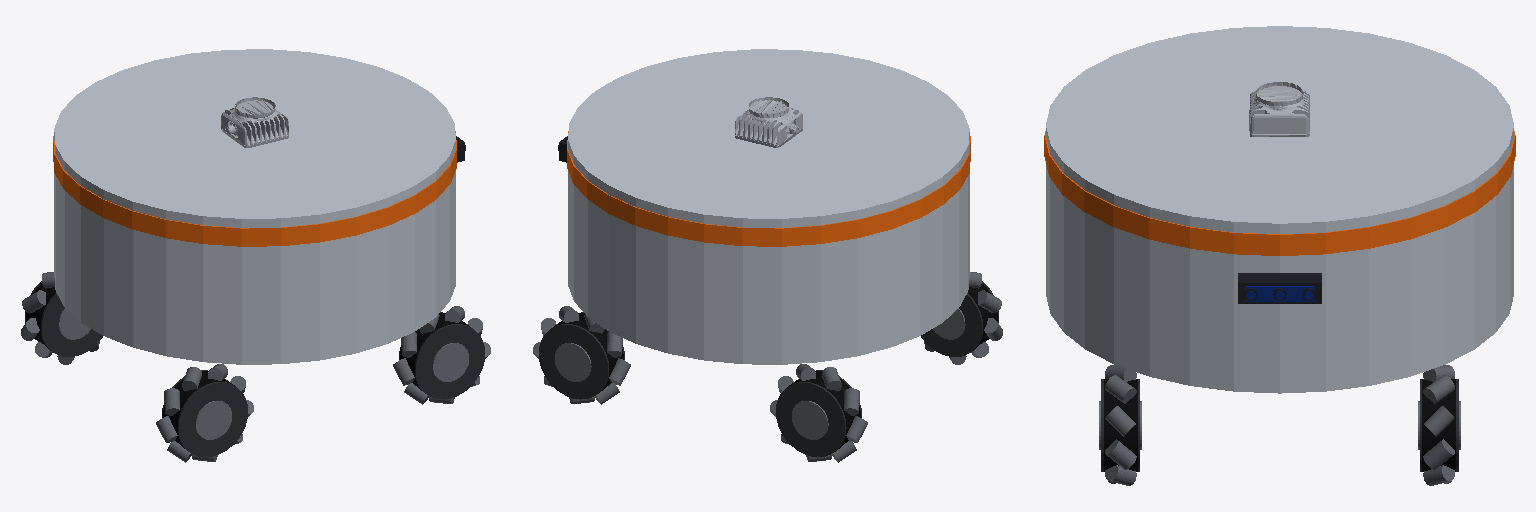
robot.urdf — zhirong_omni_robot:
<?xml version="1.0"?>
<!--
  Zhirong Cup omnidirectional robot - minimalist primitive-geometry URDF
  ======================================================================
  Coordinate convention:
    +X : forward (depth camera side)
    +Y : left
    +Z : up
    base_footprint : ground projection of the robot centre
    base_link      : geometric centre of the cylindrical body

  Key dimensions (metres):
    body cylinder          radius 0.250, height 0.200
    body bottom / top      z = 0.140 / 0.340
    wheel                  radius 0.065, width 0.040
    wheel centres          x = +-0.170, y = +-0.170, z = 0.065
    Livox Mid-360          65 x 65 x 60 mm, on body top centre
    depth camera (D435i)   90 x 25 x 25 mm, front face of body
  ======================================================================
-->
<robot name="zhirong_omni_robot">

  <!-- ======================= materials ======================= -->
  <material name="body_gray">
    <color rgba="0.76 0.79 0.83 1.0"/>
  </material>
  <material name="accent_orange">
    <color rgba="0.95 0.45 0.10 1.0"/>
  </material>
  <material name="wheel_black">
    <color rgba="0.09 0.09 0.10 1.0"/>
  </material>
  <material name="hub_gray">
    <color rgba="0.45 0.47 0.50 1.0"/>
  </material>
  <material name="wheel_plate">
    <color rgba="0.22 0.23 0.25 1.0"/>
  </material>
  <material name="roller_gray">
    <color rgba="0.40 0.41 0.44 1.0"/>
  </material>
  <material name="lidar_black">
    <color rgba="0.05 0.05 0.06 1.0"/>
  </material>
  <material name="lidar_blue">
    <color rgba="0.04 0.28 0.60 1.0"/>
  </material>
  <material name="lidar_silver">
    <color rgba="0.68 0.70 0.73 1.0"/>
  </material>
  <material name="camera_dark">
    <color rgba="0.15 0.16 0.18 1.0"/>
  </material>
  <material name="lens_blue">
    <color rgba="0.08 0.20 0.50 1.0"/>
  </material>

  <!-- ======================= chassis ======================= -->
  <link name="base_footprint"/>

  <link name="base_link">
    <inertial>
      <origin xyz="0 0 0" rpy="0 0 0"/>
      <mass value="8.0"/>
      <!-- solid cylinder: Ixx=Iyy=m(3r^2+h^2)/12, Izz=m r^2/2 -->
      <inertia ixx="0.1516667" ixy="0.0" ixz="0.0"
               iyy="0.1516667" iyz="0.0" izz="0.25"/>
    </inertial>

    <visual>
      <origin xyz="0 0 0" rpy="0 0 0"/>
      <geometry>
        <cylinder radius="0.25" length="0.20"/>
      </geometry>
      <material name="body_gray"/>
    </visual>

    <!-- thin orange accent band, purely cosmetic -->
    <visual>
      <origin xyz="0 0 0.075" rpy="0 0 0"/>
      <geometry>
        <cylinder radius="0.2515" length="0.025"/>
      </geometry>
      <material name="accent_orange"/>
    </visual>

    <collision>
      <origin xyz="0 0 0" rpy="0 0 0"/>
      <geometry>
        <cylinder radius="0.25" length="0.20"/>
      </geometry>
    </collision>
  </link>

  <joint name="base_footprint_joint" type="fixed">
    <parent link="base_footprint"/>
    <child link="base_link"/>
    <origin xyz="0 0 0.24" rpy="0 0 0"/>
  </joint>

  <!-- ======================= wheels =======================
       Four mecanum-style wheels, X layout (45 deg positions).
       Wheel axle is parallel to Y, so every wheel uses axis "0 1 0".
       For mecanum kinematics the four wheel speeds are the usual
       w_fl = ( vx - vy - (lx+ly)wz ) / r  ... etc.
  ======================================================== -->

  <!-- front left -->
  <link name="wheel_front_left_link">
    <inertial>
      <origin xyz="0 0 0" rpy="0 0 0"/>
      <mass value="0.4"/>
      <!-- cylinder axis along Y -->
      <inertia ixx="0.0004758" ixy="0.0" ixz="0.0"
               iyy="0.0008450" iyz="0.0" izz="0.0004758"/>
    </inertial>
    <visual>
      <origin xyz="0 0 0" rpy="1.57079633 0 0"/>
      <geometry>
        <cylinder radius="0.05" length="0.036"/>
      </geometry>
      <material name="wheel_black"/>
    </visual>
    <visual>
      <origin xyz="0 0.0195 0" rpy="1.57079633 0 0"/>
      <geometry>
        <cylinder radius="0.05" length="0.003"/>
      </geometry>
      <material name="wheel_plate"/>
    </visual>
    <visual>
      <origin xyz="0 -0.0195 0" rpy="1.57079633 0 0"/>
      <geometry>
        <cylinder radius="0.05" length="0.003"/>
      </geometry>
      <material name="wheel_plate"/>
    </visual>
    <visual>
      <origin xyz="0 0 0" rpy="1.57079633 0 0"/>
      <geometry>
        <cylinder radius="0.026" length="0.046"/>
      </geometry>
      <material name="hub_gray"/>
    </visual>
    <visual>
      <origin xyz="0 0 -0.054" rpy="-1.57079633 0 -0.78539816"/>
      <geometry>
        <cylinder radius="0.01" length="0.028"/>
      </geometry>
      <material name="roller_gray"/>
    </visual>
    <visual>
      <origin xyz="0.03471053 0 -0.0413664" rpy="-1.09896365 0 -0.65369072"/>
      <geometry>
        <cylinder radius="0.01" length="0.028"/>
      </geometry>
      <material name="roller_gray"/>
    </visual>
    <visual>
      <origin xyz="0.05317962 0 -0.009377" rpy="-0.80047729 0 -0.17193371"/>
      <geometry>
        <cylinder radius="0.01" length="0.028"/>
      </geometry>
      <material name="roller_gray"/>
    </visual>
    <visual>
      <origin xyz="0.04676537 0 0.027" rpy="-0.91173829 0 0.46364761"/>
      <geometry>
        <cylinder radius="0.01" length="0.028"/>
      </geometry>
      <material name="roller_gray"/>
    </visual>
    <visual>
      <origin xyz="0.01846909 0 0.0507434" rpy="-1.32652972 0 0.75431697"/>
      <geometry>
        <cylinder radius="0.01" length="0.028"/>
      </geometry>
      <material name="roller_gray"/>
    </visual>
    <visual>
      <origin xyz="-0.01846909 0 0.0507434" rpy="-1.81506293 0 0.75431697"/>
      <geometry>
        <cylinder radius="0.01" length="0.028"/>
      </geometry>
      <material name="roller_gray"/>
    </visual>
    <visual>
      <origin xyz="-0.04676537 0 0.027" rpy="-2.22985436 0 0.46364761"/>
      <geometry>
        <cylinder radius="0.01" length="0.028"/>
      </geometry>
      <material name="roller_gray"/>
    </visual>
    <visual>
      <origin xyz="-0.05317962 0 -0.009377" rpy="-2.34111536 0 -0.17193371"/>
      <geometry>
        <cylinder radius="0.01" length="0.028"/>
      </geometry>
      <material name="roller_gray"/>
    </visual>
    <visual>
      <origin xyz="-0.03471053 0 -0.0413664" rpy="-2.042629 0 -0.65369072"/>
      <geometry>
        <cylinder radius="0.01" length="0.028"/>
      </geometry>
      <material name="roller_gray"/>
    </visual>
    <collision>
      <origin xyz="0 0 0" rpy="1.57079632679 0 0"/>
      <geometry>
        <cylinder radius="0.065" length="0.040"/>
      </geometry>
    </collision>
  </link>
  <joint name="wheel_front_left_joint" type="continuous">
    <parent link="base_link"/>
    <child link="wheel_front_left_link"/>
    <origin xyz="0.17 0.17 -0.175" rpy="0 0 0"/>
    <axis xyz="0 1 0"/>
    <limit effort="20.0" velocity="30.0"/>
    <dynamics damping="0.01" friction="0.01"/>
  </joint>

  <!-- front right -->
  <link name="wheel_front_right_link">
    <inertial>
      <origin xyz="0 0 0" rpy="0 0 0"/>
      <mass value="0.4"/>
      <!-- cylinder axis along Y -->
      <inertia ixx="0.0004758" ixy="0.0" ixz="0.0"
               iyy="0.0008450" iyz="0.0" izz="0.0004758"/>
    </inertial>
    <visual>
      <origin xyz="0 0 0" rpy="1.57079633 0 0"/>
      <geometry>
        <cylinder radius="0.05" length="0.036"/>
      </geometry>
      <material name="wheel_black"/>
    </visual>
    <visual>
      <origin xyz="0 0.0195 0" rpy="1.57079633 0 0"/>
      <geometry>
        <cylinder radius="0.05" length="0.003"/>
      </geometry>
      <material name="wheel_plate"/>
    </visual>
    <visual>
      <origin xyz="0 -0.0195 0" rpy="1.57079633 0 0"/>
      <geometry>
        <cylinder radius="0.05" length="0.003"/>
      </geometry>
      <material name="wheel_plate"/>
    </visual>
    <visual>
      <origin xyz="0 0 0" rpy="1.57079633 0 0"/>
      <geometry>
        <cylinder radius="0.026" length="0.046"/>
      </geometry>
      <material name="hub_gray"/>
    </visual>
    <visual>
      <origin xyz="0 0 -0.054" rpy="-1.57079633 0 -2.35619449"/>
      <geometry>
        <cylinder radius="0.01" length="0.028"/>
      </geometry>
      <material name="roller_gray"/>
    </visual>
    <visual>
      <origin xyz="0.03471053 0 -0.0413664" rpy="-1.09896365 0 -2.48790193"/>
      <geometry>
        <cylinder radius="0.01" length="0.028"/>
      </geometry>
      <material name="roller_gray"/>
    </visual>
    <visual>
      <origin xyz="0.05317962 0 -0.009377" rpy="-0.80047729 0 -2.96965894"/>
      <geometry>
        <cylinder radius="0.01" length="0.028"/>
      </geometry>
      <material name="roller_gray"/>
    </visual>
    <visual>
      <origin xyz="0.04676537 0 0.027" rpy="-0.91173829 0 2.67794504"/>
      <geometry>
        <cylinder radius="0.01" length="0.028"/>
      </geometry>
      <material name="roller_gray"/>
    </visual>
    <visual>
      <origin xyz="0.01846909 0 0.0507434" rpy="-1.32652972 0 2.38727568"/>
      <geometry>
        <cylinder radius="0.01" length="0.028"/>
      </geometry>
      <material name="roller_gray"/>
    </visual>
    <visual>
      <origin xyz="-0.01846909 0 0.0507434" rpy="-1.81506293 0 2.38727568"/>
      <geometry>
        <cylinder radius="0.01" length="0.028"/>
      </geometry>
      <material name="roller_gray"/>
    </visual>
    <visual>
      <origin xyz="-0.04676537 0 0.027" rpy="-2.22985436 0 2.67794504"/>
      <geometry>
        <cylinder radius="0.01" length="0.028"/>
      </geometry>
      <material name="roller_gray"/>
    </visual>
    <visual>
      <origin xyz="-0.05317962 0 -0.009377" rpy="-2.34111536 0 -2.96965894"/>
      <geometry>
        <cylinder radius="0.01" length="0.028"/>
      </geometry>
      <material name="roller_gray"/>
    </visual>
    <visual>
      <origin xyz="-0.03471053 0 -0.0413664" rpy="-2.042629 0 -2.48790193"/>
      <geometry>
        <cylinder radius="0.01" length="0.028"/>
      </geometry>
      <material name="roller_gray"/>
    </visual>
    <collision>
      <origin xyz="0 0 0" rpy="1.57079632679 0 0"/>
      <geometry>
        <cylinder radius="0.065" length="0.040"/>
      </geometry>
    </collision>
  </link>
  <joint name="wheel_front_right_joint" type="continuous">
    <parent link="base_link"/>
    <child link="wheel_front_right_link"/>
    <origin xyz="0.17 -0.17 -0.175" rpy="0 0 0"/>
    <axis xyz="0 1 0"/>
    <limit effort="20.0" velocity="30.0"/>
    <dynamics damping="0.01" friction="0.01"/>
  </joint>

  <!-- rear left -->
  <link name="wheel_rear_left_link">
    <inertial>
      <origin xyz="0 0 0" rpy="0 0 0"/>
      <mass value="0.4"/>
      <!-- cylinder axis along Y -->
      <inertia ixx="0.0004758" ixy="0.0" ixz="0.0"
               iyy="0.0008450" iyz="0.0" izz="0.0004758"/>
    </inertial>
    <visual>
      <origin xyz="0 0 0" rpy="1.57079633 0 0"/>
      <geometry>
        <cylinder radius="0.05" length="0.036"/>
      </geometry>
      <material name="wheel_black"/>
    </visual>
    <visual>
      <origin xyz="0 0.0195 0" rpy="1.57079633 0 0"/>
      <geometry>
        <cylinder radius="0.05" length="0.003"/>
      </geometry>
      <material name="wheel_plate"/>
    </visual>
    <visual>
      <origin xyz="0 -0.0195 0" rpy="1.57079633 0 0"/>
      <geometry>
        <cylinder radius="0.05" length="0.003"/>
      </geometry>
      <material name="wheel_plate"/>
    </visual>
    <visual>
      <origin xyz="0 0 0" rpy="1.57079633 0 0"/>
      <geometry>
        <cylinder radius="0.026" length="0.046"/>
      </geometry>
      <material name="hub_gray"/>
    </visual>
    <visual>
      <origin xyz="0 0 -0.054" rpy="-1.57079633 0 -0.78539816"/>
      <geometry>
        <cylinder radius="0.01" length="0.028"/>
      </geometry>
      <material name="roller_gray"/>
    </visual>
    <visual>
      <origin xyz="0.03471053 0 -0.0413664" rpy="-1.09896365 0 -0.65369072"/>
      <geometry>
        <cylinder radius="0.01" length="0.028"/>
      </geometry>
      <material name="roller_gray"/>
    </visual>
    <visual>
      <origin xyz="0.05317962 0 -0.009377" rpy="-0.80047729 0 -0.17193371"/>
      <geometry>
        <cylinder radius="0.01" length="0.028"/>
      </geometry>
      <material name="roller_gray"/>
    </visual>
    <visual>
      <origin xyz="0.04676537 0 0.027" rpy="-0.91173829 0 0.46364761"/>
      <geometry>
        <cylinder radius="0.01" length="0.028"/>
      </geometry>
      <material name="roller_gray"/>
    </visual>
    <visual>
      <origin xyz="0.01846909 0 0.0507434" rpy="-1.32652972 0 0.75431697"/>
      <geometry>
        <cylinder radius="0.01" length="0.028"/>
      </geometry>
      <material name="roller_gray"/>
    </visual>
    <visual>
      <origin xyz="-0.01846909 0 0.0507434" rpy="-1.81506293 0 0.75431697"/>
      <geometry>
        <cylinder radius="0.01" length="0.028"/>
      </geometry>
      <material name="roller_gray"/>
    </visual>
    <visual>
      <origin xyz="-0.04676537 0 0.027" rpy="-2.22985436 0 0.46364761"/>
      <geometry>
        <cylinder radius="0.01" length="0.028"/>
      </geometry>
      <material name="roller_gray"/>
    </visual>
    <visual>
      <origin xyz="-0.05317962 0 -0.009377" rpy="-2.34111536 0 -0.17193371"/>
      <geometry>
        <cylinder radius="0.01" length="0.028"/>
      </geometry>
      <material name="roller_gray"/>
    </visual>
    <visual>
      <origin xyz="-0.03471053 0 -0.0413664" rpy="-2.042629 0 -0.65369072"/>
      <geometry>
        <cylinder radius="0.01" length="0.028"/>
      </geometry>
      <material name="roller_gray"/>
    </visual>
    <collision>
      <origin xyz="0 0 0" rpy="1.57079632679 0 0"/>
      <geometry>
        <cylinder radius="0.065" length="0.040"/>
      </geometry>
    </collision>
  </link>
  <joint name="wheel_rear_left_joint" type="continuous">
    <parent link="base_link"/>
    <child link="wheel_rear_left_link"/>
    <origin xyz="-0.17 0.17 -0.175" rpy="0 0 0"/>
    <axis xyz="0 1 0"/>
    <limit effort="20.0" velocity="30.0"/>
    <dynamics damping="0.01" friction="0.01"/>
  </joint>

  <!-- rear right -->
  <link name="wheel_rear_right_link">
    <inertial>
      <origin xyz="0 0 0" rpy="0 0 0"/>
      <mass value="0.4"/>
      <!-- cylinder axis along Y -->
      <inertia ixx="0.0004758" ixy="0.0" ixz="0.0"
               iyy="0.0008450" iyz="0.0" izz="0.0004758"/>
    </inertial>
    <visual>
      <origin xyz="0 0 0" rpy="1.57079633 0 0"/>
      <geometry>
        <cylinder radius="0.05" length="0.036"/>
      </geometry>
      <material name="wheel_black"/>
    </visual>
    <visual>
      <origin xyz="0 0.0195 0" rpy="1.57079633 0 0"/>
      <geometry>
        <cylinder radius="0.05" length="0.003"/>
      </geometry>
      <material name="wheel_plate"/>
    </visual>
    <visual>
      <origin xyz="0 -0.0195 0" rpy="1.57079633 0 0"/>
      <geometry>
        <cylinder radius="0.05" length="0.003"/>
      </geometry>
      <material name="wheel_plate"/>
    </visual>
    <visual>
      <origin xyz="0 0 0" rpy="1.57079633 0 0"/>
      <geometry>
        <cylinder radius="0.026" length="0.046"/>
      </geometry>
      <material name="hub_gray"/>
    </visual>
    <visual>
      <origin xyz="0 0 -0.054" rpy="-1.57079633 0 -2.35619449"/>
      <geometry>
        <cylinder radius="0.01" length="0.028"/>
      </geometry>
      <material name="roller_gray"/>
    </visual>
    <visual>
      <origin xyz="0.03471053 0 -0.0413664" rpy="-1.09896365 0 -2.48790193"/>
      <geometry>
        <cylinder radius="0.01" length="0.028"/>
      </geometry>
      <material name="roller_gray"/>
    </visual>
    <visual>
      <origin xyz="0.05317962 0 -0.009377" rpy="-0.80047729 0 -2.96965894"/>
      <geometry>
        <cylinder radius="0.01" length="0.028"/>
      </geometry>
      <material name="roller_gray"/>
    </visual>
    <visual>
      <origin xyz="0.04676537 0 0.027" rpy="-0.91173829 0 2.67794504"/>
      <geometry>
        <cylinder radius="0.01" length="0.028"/>
      </geometry>
      <material name="roller_gray"/>
    </visual>
    <visual>
      <origin xyz="0.01846909 0 0.0507434" rpy="-1.32652972 0 2.38727568"/>
      <geometry>
        <cylinder radius="0.01" length="0.028"/>
      </geometry>
      <material name="roller_gray"/>
    </visual>
    <visual>
      <origin xyz="-0.01846909 0 0.0507434" rpy="-1.81506293 0 2.38727568"/>
      <geometry>
        <cylinder radius="0.01" length="0.028"/>
      </geometry>
      <material name="roller_gray"/>
    </visual>
    <visual>
      <origin xyz="-0.04676537 0 0.027" rpy="-2.22985436 0 2.67794504"/>
      <geometry>
        <cylinder radius="0.01" length="0.028"/>
      </geometry>
      <material name="roller_gray"/>
    </visual>
    <visual>
      <origin xyz="-0.05317962 0 -0.009377" rpy="-2.34111536 0 -2.96965894"/>
      <geometry>
        <cylinder radius="0.01" length="0.028"/>
      </geometry>
      <material name="roller_gray"/>
    </visual>
    <visual>
      <origin xyz="-0.03471053 0 -0.0413664" rpy="-2.042629 0 -2.48790193"/>
      <geometry>
        <cylinder radius="0.01" length="0.028"/>
      </geometry>
      <material name="roller_gray"/>
    </visual>
    <collision>
      <origin xyz="0 0 0" rpy="1.57079632679 0 0"/>
      <geometry>
        <cylinder radius="0.065" length="0.040"/>
      </geometry>
    </collision>
  </link>
  <joint name="wheel_rear_right_joint" type="continuous">
    <parent link="base_link"/>
    <child link="wheel_rear_right_link"/>
    <origin xyz="-0.17 -0.17 -0.175" rpy="0 0 0"/>
    <axis xyz="0 1 0"/>
    <limit effort="20.0" velocity="30.0"/>
    <dynamics damping="0.01" friction="0.01"/>
  </joint>

  <!-- ======================= Livox Mid-360 =======================
       Link frame: centre of the mounting face (top of the body).
       Device: 65 x 65 x 60 mm, weight 265 g.
       Open-source STL device 60 mm -> top of lidar at z = 0.400.
  =============================================================== -->
  <link name="livox_mid360_link">
    <inertial>
      <origin xyz="0 0 0.030" rpy="0 0 0"/>
      <mass value="0.265"/>
      <!-- box approximation of the 65 x 65 x 60 mm device -->
      <inertia ixx="0.0001727" ixy="0.0" ixz="0.0"
               iyy="0.0001727" iyz="0.0" izz="0.0001866"/>
    </inertial>

    <!-- Open-source Livox Mid-360 STL (MIT). The model is split by material:
         silver heat-sink base, blue dome, black top cap. -->
    <visual>
      <origin xyz="0 0 0" rpy="0 0 0"/>
      <geometry>
        <mesh filename="package://robot_description/meshes/mid360_base.stl"/>
      </geometry>
      <material name="lidar_silver"/>
    </visual>
    <visual>
      <origin xyz="0 0 0" rpy="0 0 0"/>
      <geometry>
        <mesh filename="package://robot_description/meshes/mid360_dome.stl"/>
      </geometry>
      <material name="lidar_blue"/>
    </visual>
    <visual>
      <origin xyz="0 0 0" rpy="0 0 0"/>
      <geometry>
        <mesh filename="package://robot_description/meshes/mid360_top.stl"/>
      </geometry>
      <material name="lidar_black"/>
    </visual>

    <collision>
      <origin xyz="0 0 0.030" rpy="0 0 0"/>
      <geometry>
        <box size="0.065 0.065 0.060"/>
      </geometry>
    </collision>
  </link>
  <joint name="livox_mid360_joint" type="fixed">
    <parent link="base_link"/>
    <child link="livox_mid360_link"/>
    <origin xyz="0 0 0.10" rpy="0 0 0"/>
  </joint>

  <!-- ======================= depth camera =======================
       Intel RealSense D435i style: 90 x 25 x 25 mm.
       Body centre at x = 0.263 (back face 0.2505), z = 0.270.
       camera_link  : x forward, y left, z up (body axes)
       camera_optical_frame : z forward, x right, y down (REP-103)
  =============================================================== -->
  <link name="camera_link">
    <inertial>
      <origin xyz="0 0 0" rpy="0 0 0"/>
      <mass value="0.09"/>
      <!-- box 0.025 x 0.090 x 0.025 -->
      <inertia ixx="0.0000654" ixy="0.0" ixz="0.0"
               iyy="0.0000094" iyz="0.0" izz="0.0000654"/>
    </inertial>

    <visual>
      <origin xyz="0 0 0" rpy="0 0 0"/>
      <geometry>
        <box size="0.025 0.090 0.025"/>
      </geometry>
      <material name="camera_dark"/>
    </visual>

    <!-- dark front glass -->
    <visual>
      <origin xyz="0.0135 0 0" rpy="0 0 0"/>
      <geometry>
        <box size="0.002 0.074 0.018"/>
      </geometry>
      <material name="lens_blue"/>
    </visual>

    <!-- three lenses: left IR / RGB / right IR (dark ring + blue glass) -->
    <visual>
      <origin xyz="0.0160 -0.031 0" rpy="0 1.57079632679 0"/>
      <geometry>
        <cylinder radius="0.0070" length="0.003"/>
      </geometry>
      <material name="camera_dark"/>
    </visual>
    <visual>
      <origin xyz="0.0170 -0.031 0" rpy="0 1.57079632679 0"/>
      <geometry>
        <cylinder radius="0.0050" length="0.003"/>
      </geometry>
      <material name="lens_blue"/>
    </visual>
    <visual>
      <origin xyz="0.0160 0.000 0" rpy="0 1.57079632679 0"/>
      <geometry>
        <cylinder radius="0.0070" length="0.003"/>
      </geometry>
      <material name="camera_dark"/>
    </visual>
    <visual>
      <origin xyz="0.0170 0.000 0" rpy="0 1.57079632679 0"/>
      <geometry>
        <cylinder radius="0.0050" length="0.003"/>
      </geometry>
      <material name="lens_blue"/>
    </visual>
    <visual>
      <origin xyz="0.0160 0.031 0" rpy="0 1.57079632679 0"/>
      <geometry>
        <cylinder radius="0.0070" length="0.003"/>
      </geometry>
      <material name="camera_dark"/>
    </visual>
    <visual>
      <origin xyz="0.0170 0.031 0" rpy="0 1.57079632679 0"/>
      <geometry>
        <cylinder radius="0.0050" length="0.003"/>
      </geometry>
      <material name="lens_blue"/>
    </visual>

    <collision>
      <origin xyz="0 0 0" rpy="0 0 0"/>
      <geometry>
        <box size="0.025 0.090 0.025"/>
      </geometry>
    </collision>
  </link>
  <joint name="camera_joint" type="fixed">
    <parent link="base_link"/>
    <child link="camera_link"/>
    <origin xyz="0.263 0 0.03" rpy="0 0 0"/>
  </joint>

  <link name="camera_optical_frame"/>
  <joint name="camera_optical_joint" type="fixed">
    <parent link="camera_link"/>
    <child link="camera_optical_frame"/>
    <origin xyz="0.0185 0 0" rpy="-1.57079632679 0 -1.57079632679"/>
  </joint>

</robot>

--- Render facts (derived) ---
3 views of the same robot in one strip: view 1: azimuth 30°, elevation 25°; view 2: azimuth 150°, elevation 25°; view 3: azimuth 270°, elevation 25° (orthographic).
Model zhirong_omni_robot with 9 links and 8 joints (4 continuous, 4 fixed), rooted at base_footprint, posed all joints at 0.
Links seen in each view (by area): view 1: base_link, wheel_rear_right_link, wheel_front_right_link, wheel_rear_left_link, livox_mid360_link; view 2: base_link, wheel_rear_left_link, wheel_front_left_link, wheel_rear_right_link, livox_mid360_link; view 3: base_link, wheel_front_left_link, wheel_front_right_link, livox_mid360_link, camera_link.
Link boxes in pixels (box(x1,y1,x2,y2)): base_link: box(53, 49, 456, 364); wheel_rear_right_link: box(156, 364, 253, 462); wheel_front_right_link: box(393, 306, 490, 404); wheel_rear_left_link: box(21, 272, 102, 364); livox_mid360_link: box(221, 97, 288, 147); base_link: box(567, 49, 970, 364); wheel_rear_left_link: box(770, 364, 867, 462); wheel_front_left_link: box(533, 306, 630, 404); wheel_rear_right_link: box(921, 272, 1002, 364); livox_mid360_link: box(735, 97, 802, 147); base_link: box(1044, 26, 1515, 393); wheel_front_left_link: box(1418, 365, 1460, 485); wheel_front_right_link: box(1099, 365, 1141, 485); livox_mid360_link: box(1249, 82, 1309, 136); camera_link: box(1238, 273, 1321, 303).
Size in the robot's own frame: 0.533 by 0.503 by 0.3785 metres.
Meshes: 3 distinct files referenced, 1 mesh visuals loaded (1 binary STL); not drawn: 2 (file found but could not be loaded).
